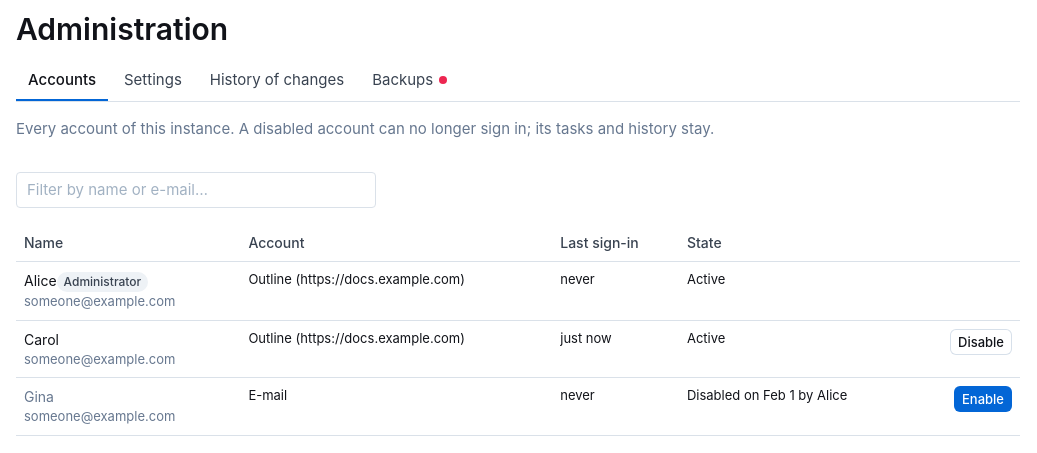
administration page › has a tab for the backups, marked when something is wrong with them
Expected: the element titled "Something is wrong with the backups" is shown, [439,76,447,84]
Click the tab "Backups": coordinates (410, 81) [360,60,459,101]
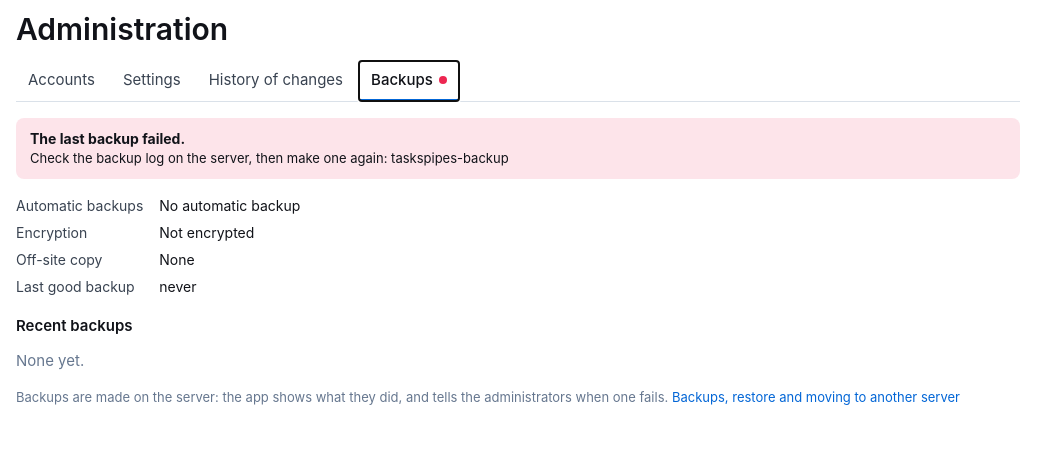
Result: the message shows "The last backup failed." at [30,130,185,147]
